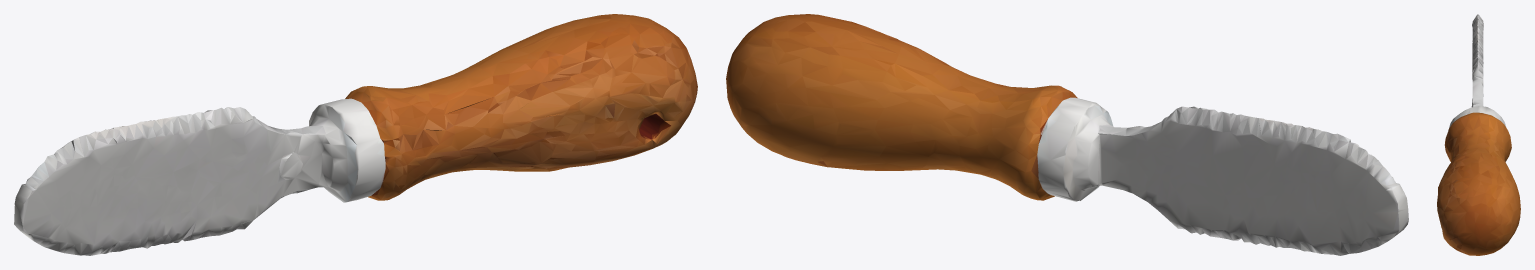
The model's file is tool_smooth.glb.
3 views of the same model, side by side, from view 1: azimuth 30°, elevation 25°; view 2: azimuth 150°, elevation 25°; view 3: azimuth 270°, elevation 25° (orthographic). The views are drawn at different scales.
Parts seen in each view (by area): view 1: geometry_0; view 2: geometry_0; view 3: geometry_0.
Boxes of the visible parts, x1=… form: geometry_0: x1=14, y1=14, x2=697, y2=255; geometry_0: x1=726, y1=14, x2=1408, y2=255; geometry_0: x1=1437, y1=14, x2=1520, y2=255.
Bounding box in the file's own units: 0.11 × 0.0236 × 0.0208.
1 material, 1 textured.
